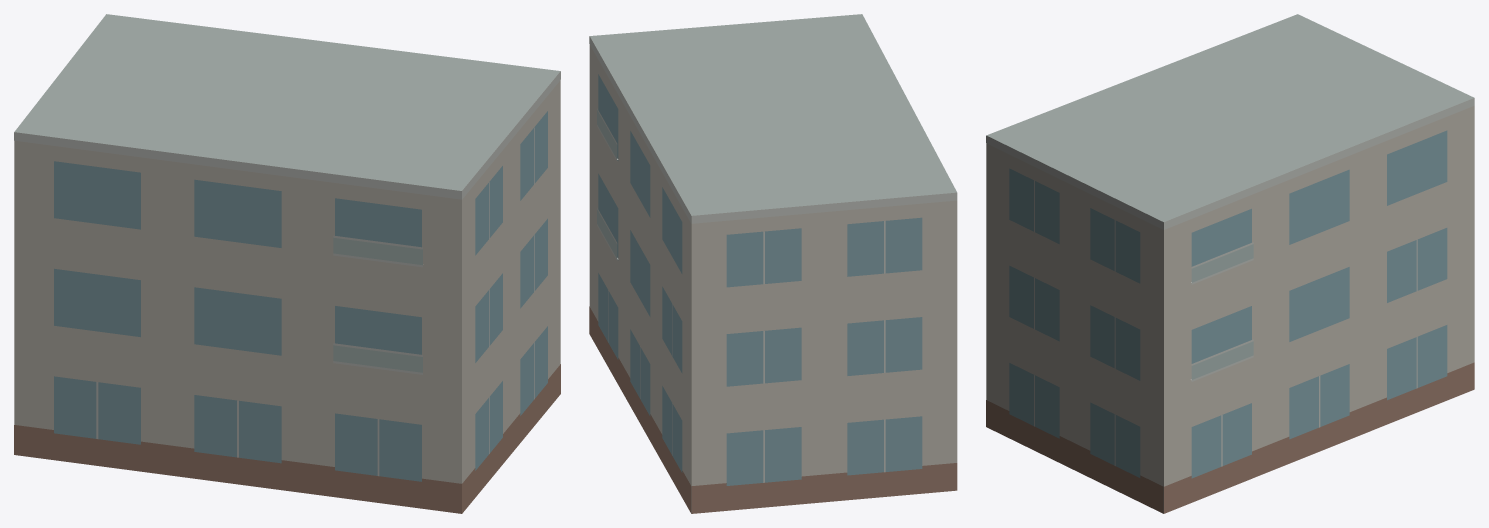
The model's file is survey-upis-32906169.glb.
The picture shows the model from 3 angles, left to right: view 1: azimuth 30°, elevation 25°; view 2: azimuth 150°, elevation 25°; view 3: azimuth 270°, elevation 25°; orthographic projection. The views are drawn at different scales.
Visible parts, largest first — view 1: survey-upis-32906169.tmp; view 2: survey-upis-32906169.tmp; view 3: survey-upis-32906169.tmp.
Boxes of the visible parts, x1,y1,x2,y2 form: survey-upis-32906169.tmp: [14, 14, 560, 513]; survey-upis-32906169.tmp: [589, 14, 957, 513]; survey-upis-32906169.tmp: [986, 14, 1474, 513].
Size of the model in its own units: 14.02 by 9.15 by 13.9.
